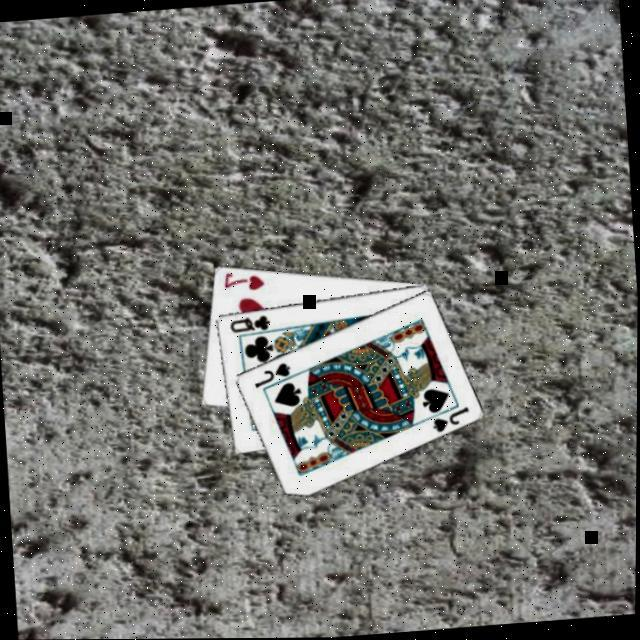7H: (220, 268, 268, 296)
JS: (429, 405, 474, 438), (252, 361, 296, 392)
QC: (227, 313, 274, 337)
